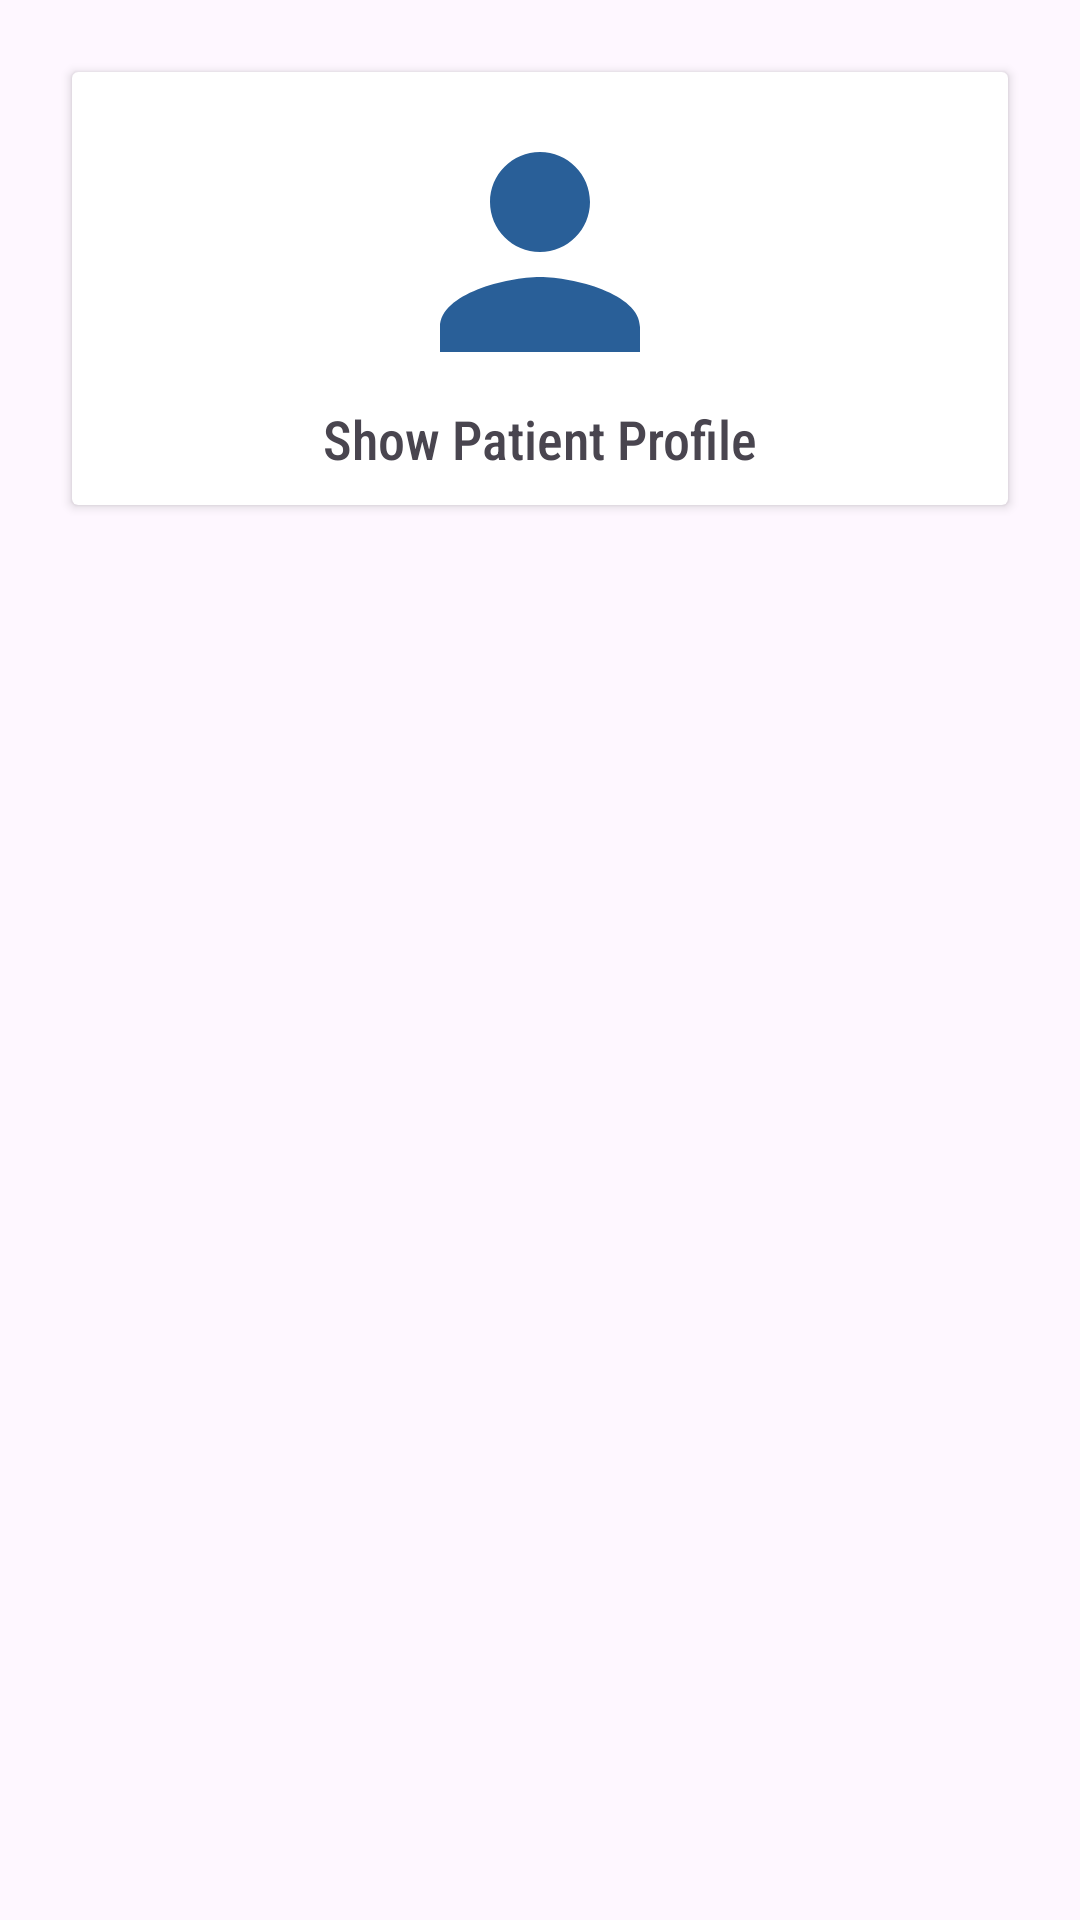

Icon click points for this 1080px×1920px phone screenshot, format [x,y]:
person: [540,252]
